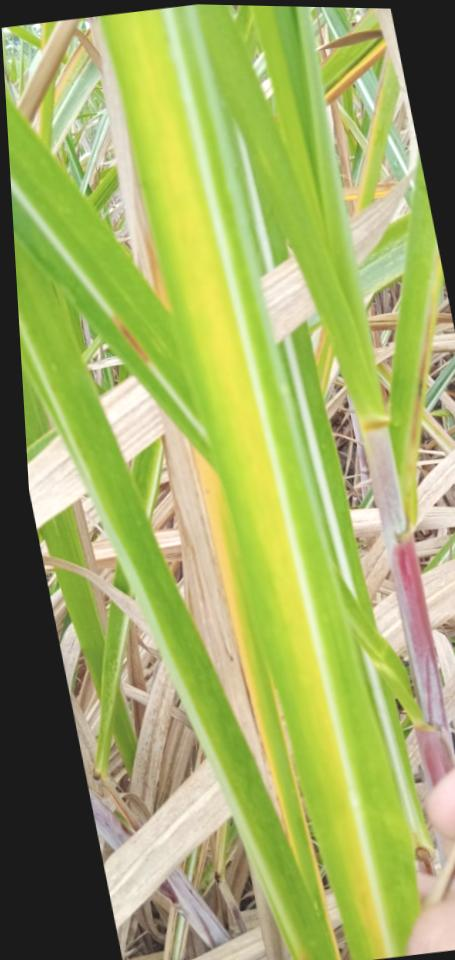RedRot: (109, 315, 150, 363)
Yellow: (110, 9, 388, 959), (190, 438, 302, 879)
